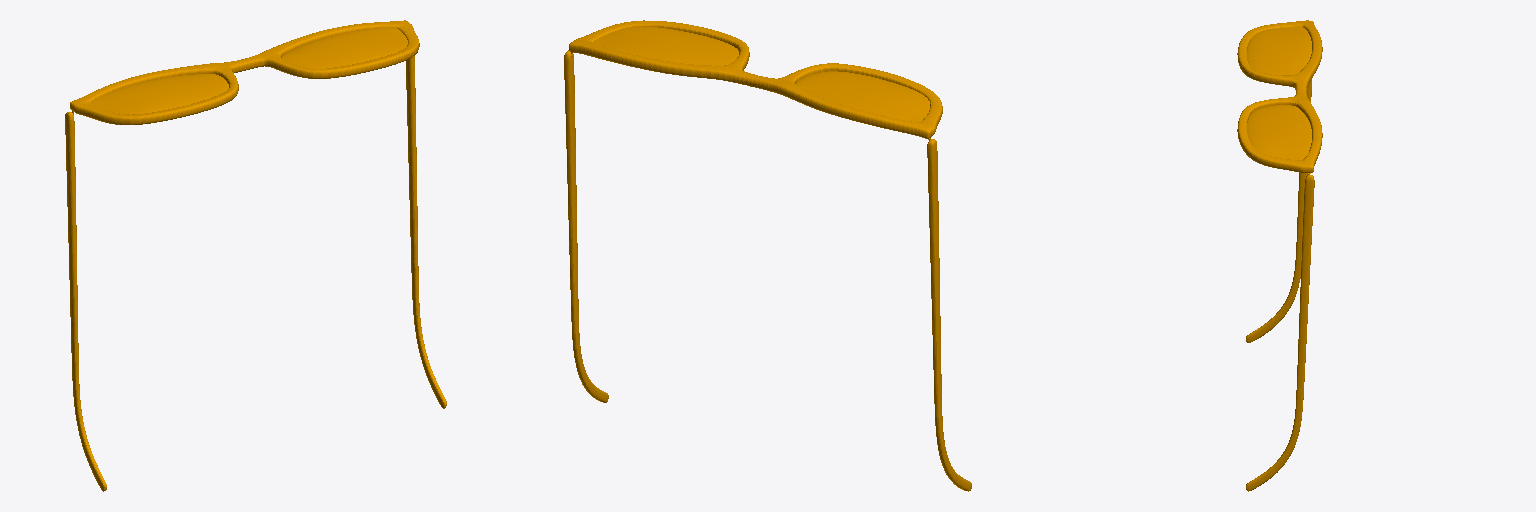
The robot description file, URDF, robot "glasses.urdf":
<?xml version="1.0" ?>
<robot name="glasses.urdf">
  <link name="baseLink">
    <!-- <inertial>
      <origin rpy="0 0 0" xyz="0 0 0"/>
       <mass value="0.0"/>
       <inertia ixx="0" ixy="0" ixz="0" iyy="0" iyz="0" izz="0"/>
    </inertial> -->
        <contact>
      <friction_anchor/>
      <lateral_friction value="0.3"/>
      <rolling_friction value="0.0"/>
      <contact_cfm value="0.0"/>
      <contact_erp value="1.0"/>
    </contact>
    <inertial>
       <origin rpy="0 0 0" xyz="0 0 0"/>
       <mass value="0.1"/>
       <inertia ixx="8e-05" ixy="0" ixz="0" iyy="0.0002" iyz="0" izz="0.0002"/>
    </inertial>
    <visual>
      <origin rpy="0 0 0" xyz="0 0 0"/>
      <geometry>
        <mesh filename="glasses.obj" scale="0.1 0.1 0.1"/>
      </geometry>
      <!-- <material name="white">
       <color rgba="1 1 1 1"/>
     </material> -->
    </visual>
    <collision>
      <origin rpy="0 0 0" xyz="0 0 0"/>
      <geometry>
        <mesh filename="glasses.obj" scale="0.1 0.1 0.1"/>
        <!-- You could also specify the collision (for the scissors) with a "box" tag: -->
        <!-- <box size=".06 .06 .06"/> -->
      </geometry>
    </collision>
  </link>
</robot>

--- What the picture shows (computed from the rendered views, not written in the file) ---
The picture shows the robot from 3 angles, left to right: view 1: azimuth 30°, elevation 25°; view 2: azimuth 150°, elevation 25°; view 3: azimuth 270°, elevation 25°; orthographic projection.
Model glasses.urdf with 1 links and 0 joints (none), rooted at baseLink, posed every joint at zero.
Links seen in each view (by area): view 1: baseLink; view 2: baseLink; view 3: baseLink.
Link boxes in pixels (x1,y1,x2,y2): baseLink: (65, 20, 446, 491); baseLink: (564, 20, 971, 491); baseLink: (1237, 20, 1322, 491).
Size in the robot's own frame: 0.1609 by 0.0383 by 0.1639 metres.
Meshes: 1 distinct files referenced, 1 mesh visuals loaded (1 OBJ).